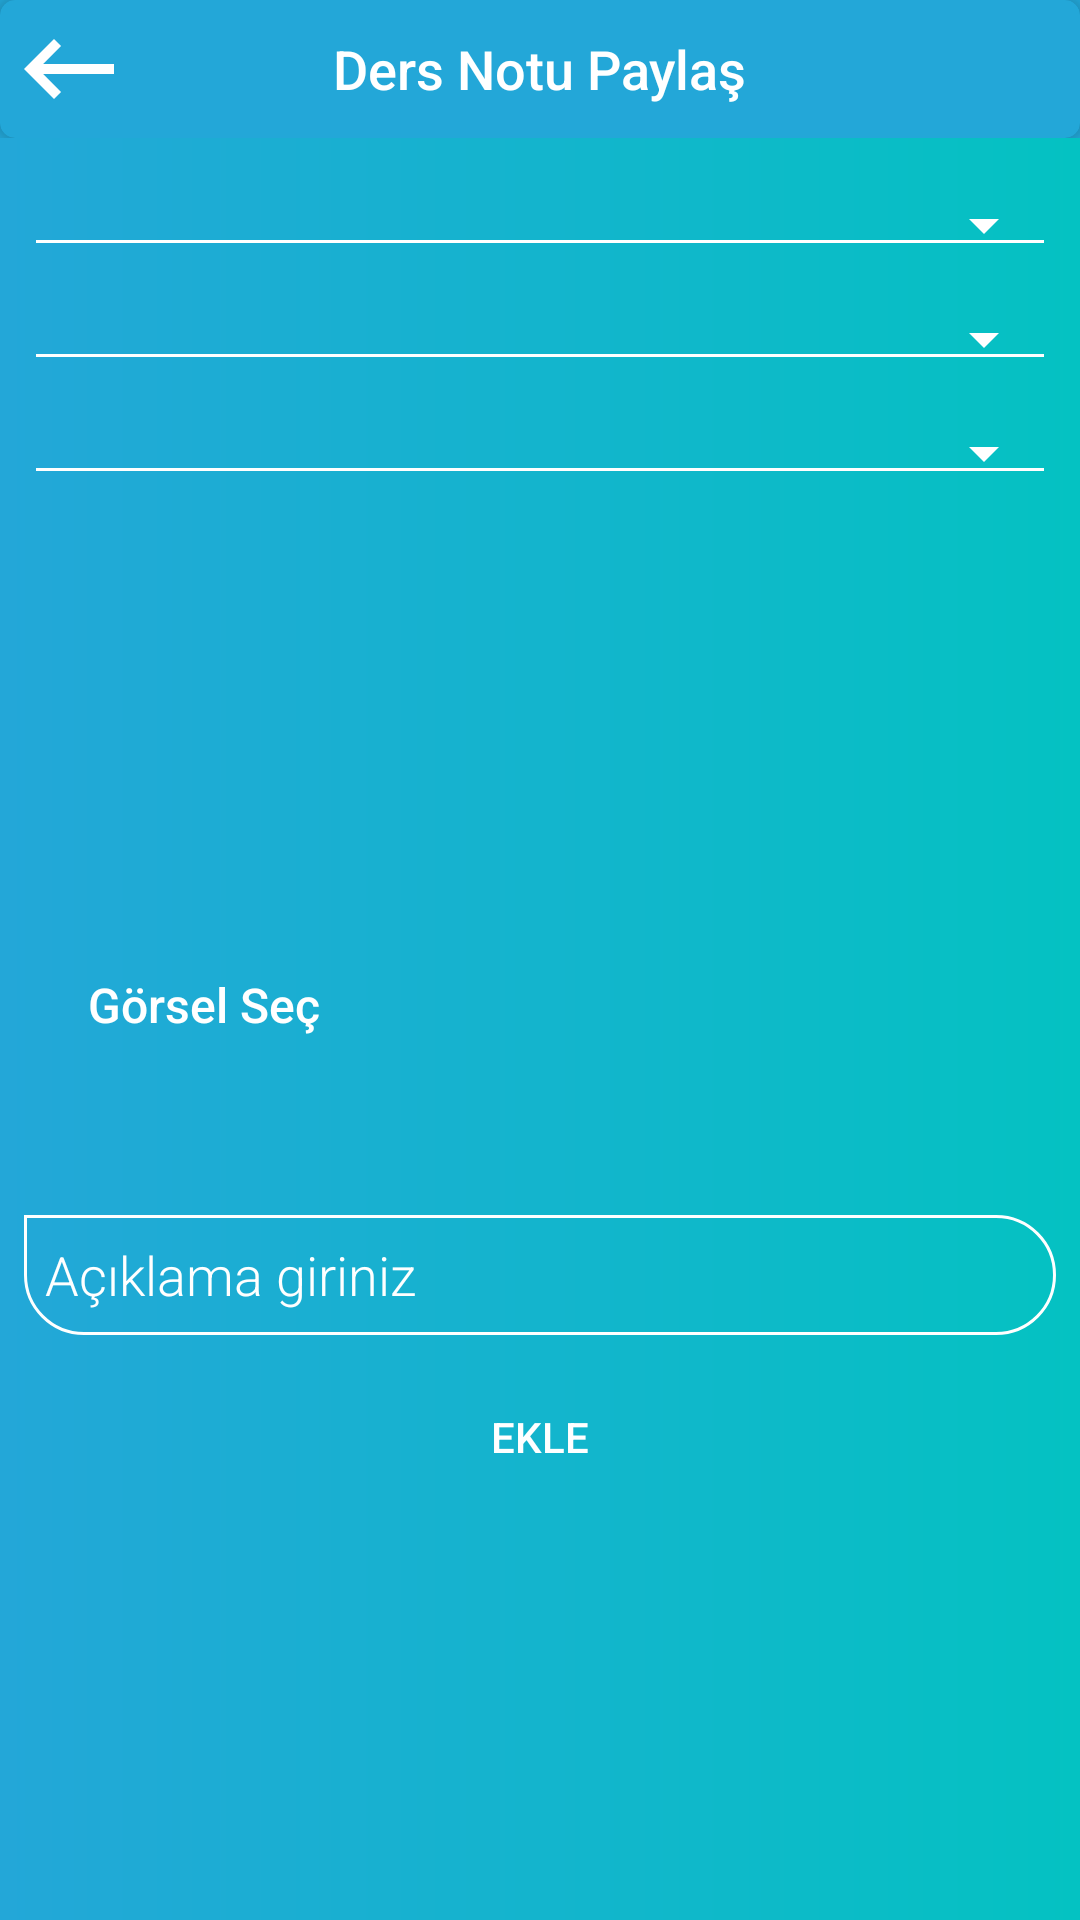

Point at icon controls on the screen. Image size 1080×1920, points as point (x, y).
back: point (69, 69)
